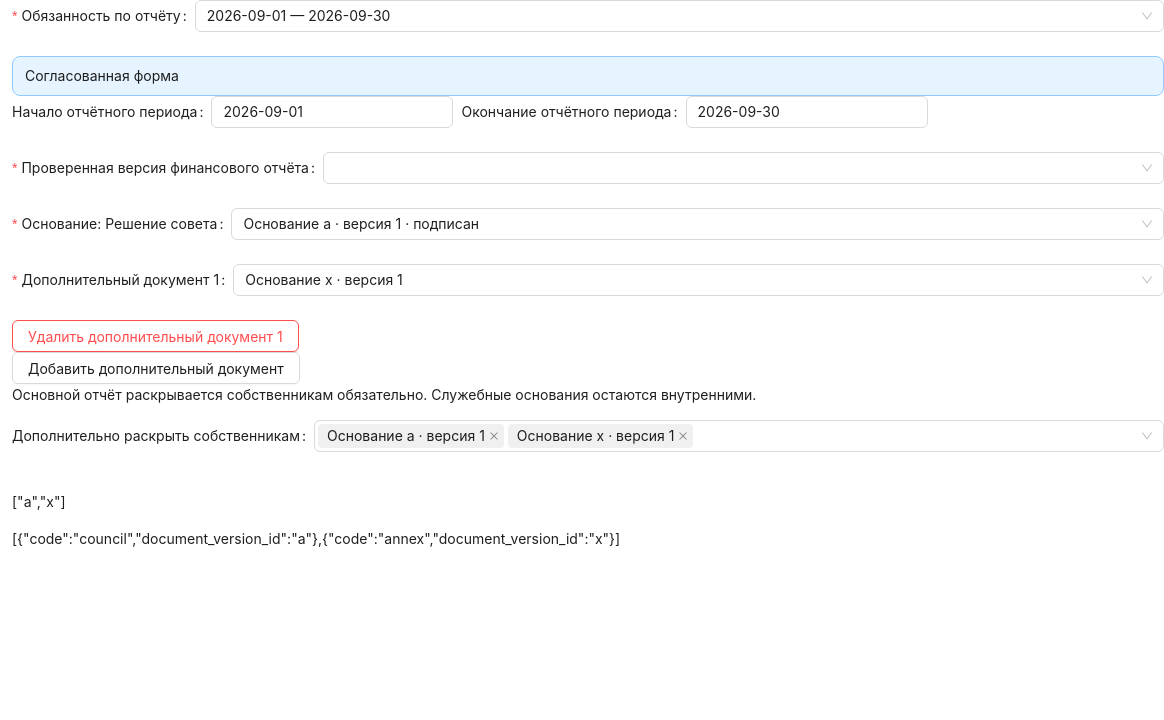
Test: сохраняет дополнительное приложение и раскрытие до явного удаления
Check: the text "Согласованная форма" is shown, box [25,67,179,84]
Check: the text with test id "bases" shows "\"annex\"", box [12,530,620,547]
Click the button "Удалить дополнительный документ 1" at (155, 336), box [12,320,299,352]
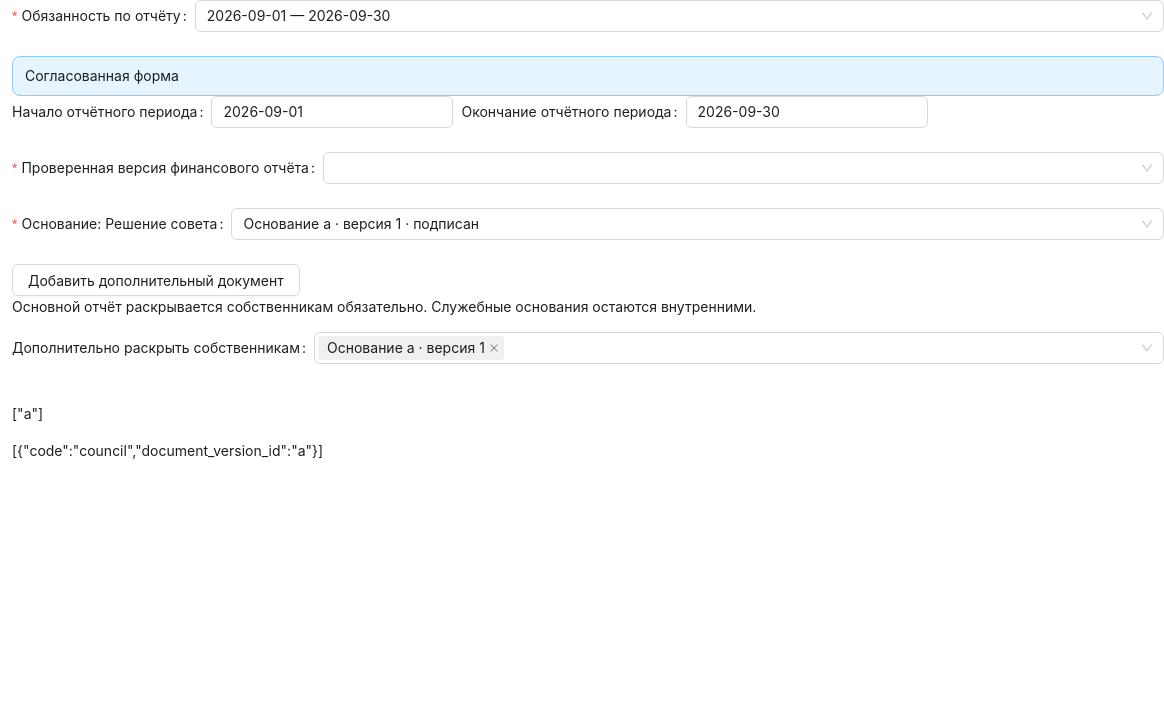
Check: the text with test id "bases" no longer shows "\"annex\"", box [12,442,323,459]
Check: the text with test id "disclosed" reads "[\"a\"]", box [12,405,43,422]
